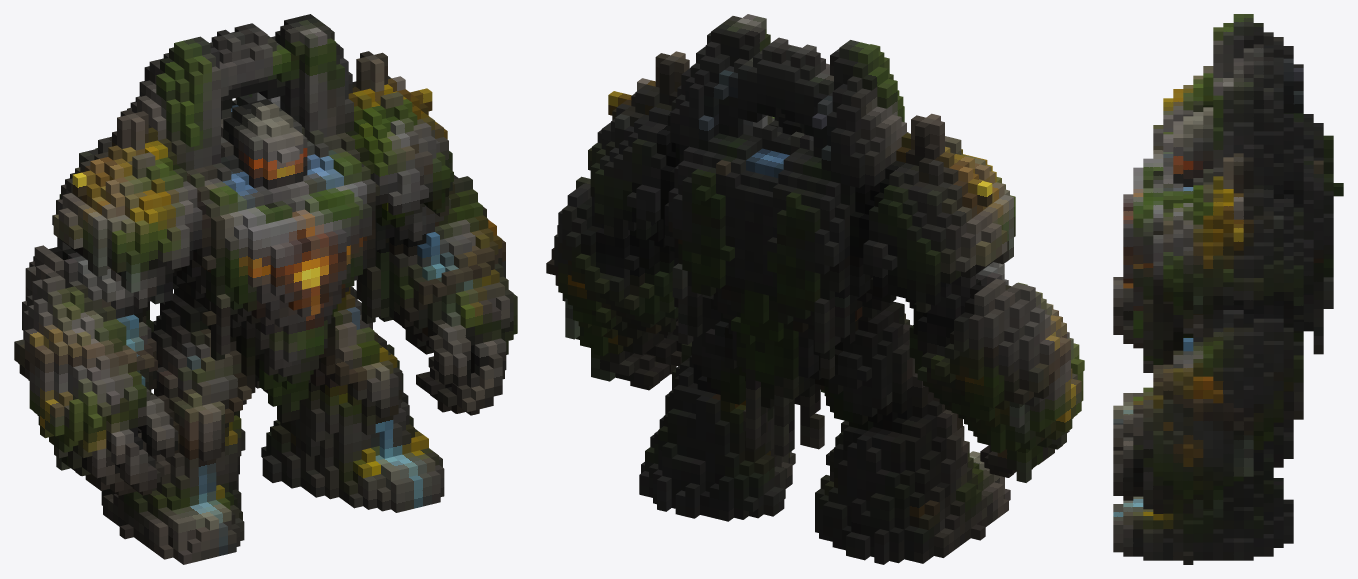
The model's file is u_gardien.glb.
3 views of the same model, side by side, from view 1: azimuth 30°, elevation 25°; view 2: azimuth 150°, elevation 25°; view 3: azimuth 270°, elevation 25° (orthographic). The views are drawn at different scales.
Visible parts, largest first — view 1: gardien_body; view 2: gardien_body; view 3: gardien_body.
Boxes of the visible parts, <box> form: gardien_body: <box>14,14,517,564</box>; gardien_body: <box>546,14,1084,564</box>; gardien_body: <box>1113,14,1343,564</box>.
Bounding box in the file's own units: 4.36 × 4.11 × 1.93.
1 material, 1 textured.
